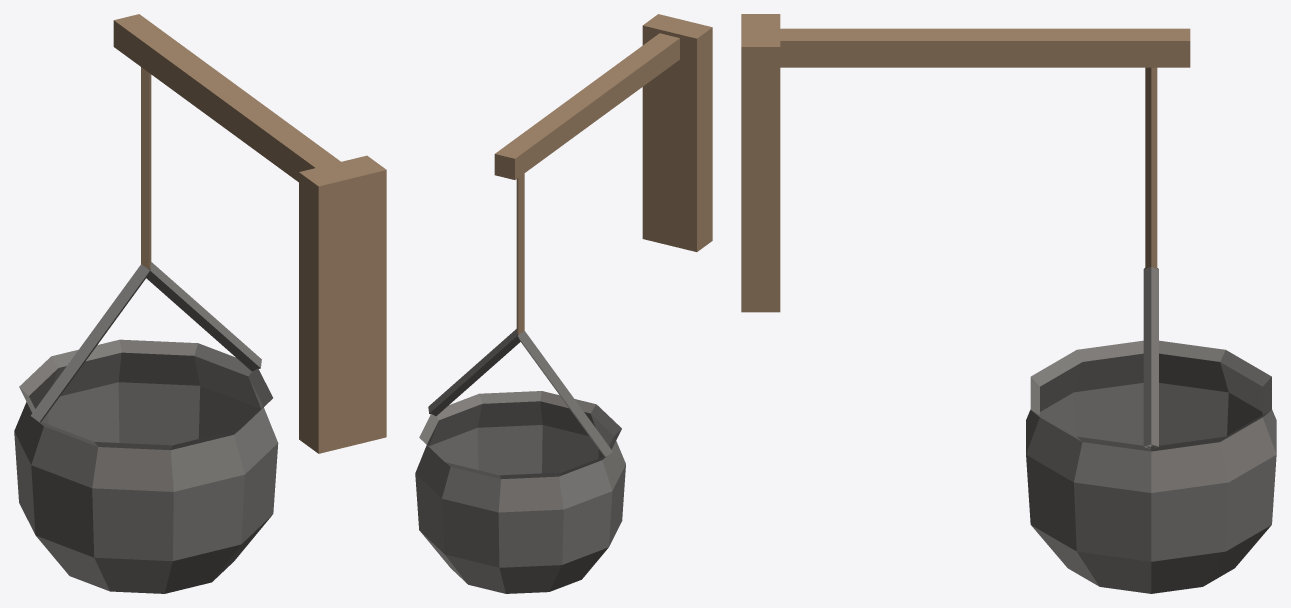
File: prop-pot-hanging-kp1.fbx
3 renders of one model, left to right at view 1: azimuth 30°, elevation 25°; view 2: azimuth 150°, elevation 25°; view 3: azimuth 270°, elevation 25°, orthographic. The views are drawn at different scales.
Visible parts, largest first — view 1: prop-pot-hanging-kp1; view 2: prop-pot-hanging-kp1; view 3: prop-pot-hanging-kp1.
Part boxes in pixels (bbox=[...]): prop-pot-hanging-kp1: bbox=[14, 14, 386, 593]; prop-pot-hanging-kp1: bbox=[415, 14, 712, 593]; prop-pot-hanging-kp1: bbox=[741, 14, 1276, 593].
Size of the model in its own units: 0.2717 by 0.6 by 0.5484.
